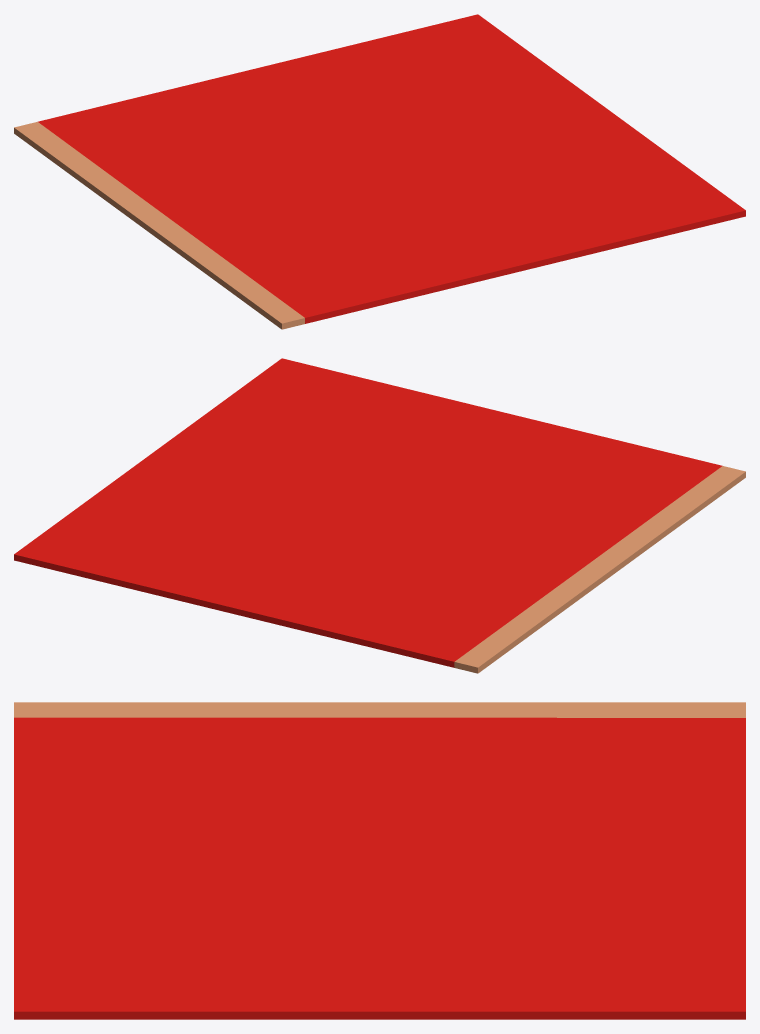
The model's file is carpet-big.fbx.
The picture shows the model from 3 angles, top to bottom: view 1: azimuth 30°, elevation 25°; view 2: azimuth 150°, elevation 25°; view 3: azimuth 270°, elevation 25°; orthographic projection. The views are drawn at different scales.
Visible parts, largest first — view 1: carpet-big; view 2: carpet-big; view 3: carpet-big.
Boxes of the visible parts, x1,y1,x2,y2 form: carpet-big: (14,14,745,329); carpet-big: (14,358,745,673); carpet-big: (14,702,745,1019).
Size of the model in its own units: 400 by 5 by 400.
